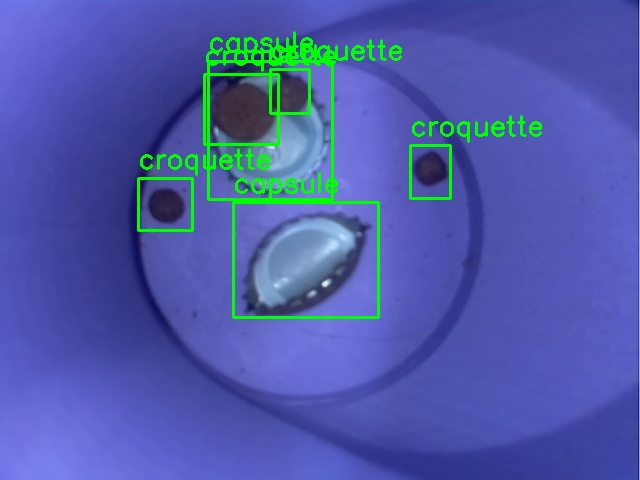capsule: (208, 61, 332, 199), (233, 202, 378, 317)
croquette: (204, 74, 278, 144), (138, 178, 192, 230), (410, 145, 450, 198), (270, 69, 309, 113)
